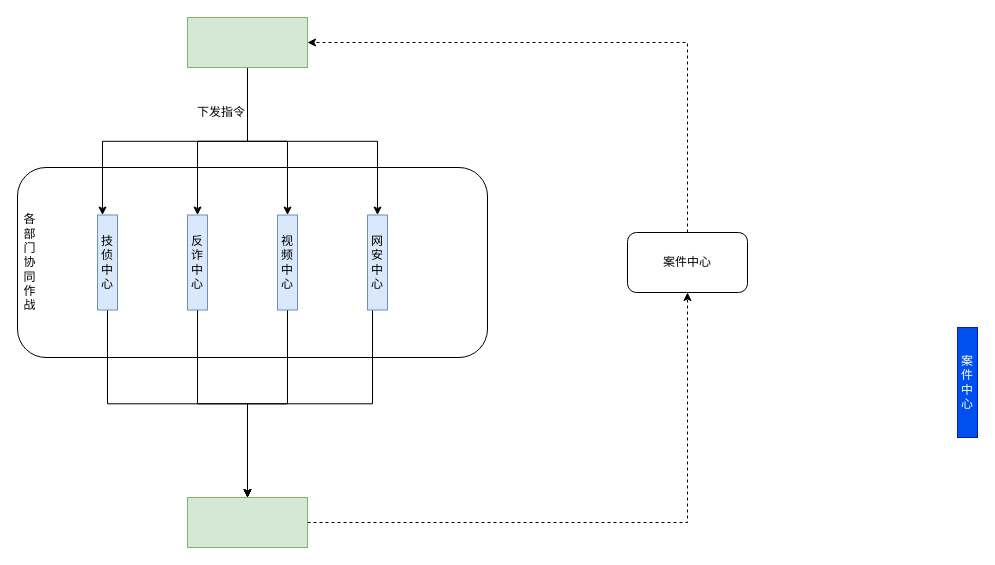
The diagram is 995 pixels wide and 565 high, and some of its shapes have lost their labels. Each missing label, with the centre of its shape:
"情报中心（入口）" belongs at pixel 247 42.
"情报中心（出口）" belongs at pixel 247 522.
